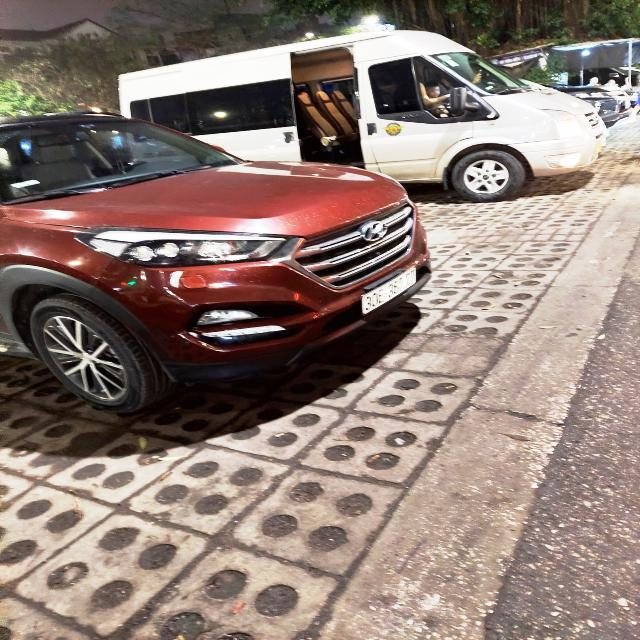license_plate: (363, 263, 421, 319)
